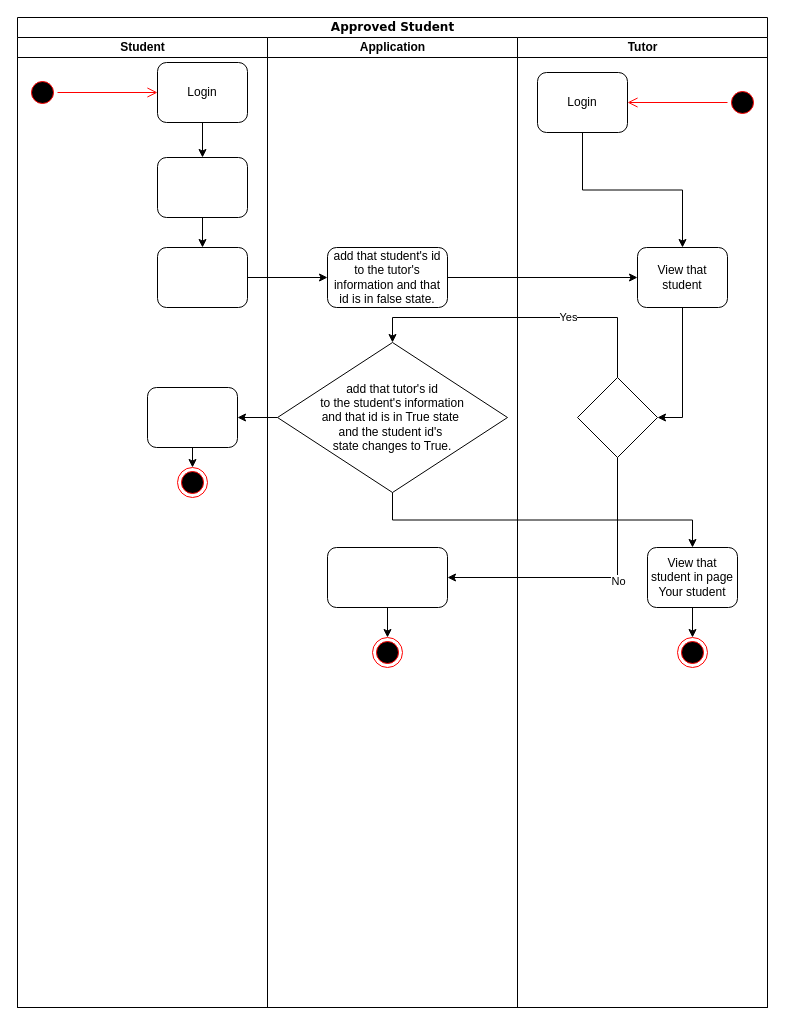
Image size: 785x1025. Some labels were removed from this diagram. Here are the shapes that lost their labels. From the top down, the centre of each, then its label:
the point at 202,187: View list Tutor
the point at 202,277: Click button choose this tutor
the point at 192,417: View that tutor in page Your tutor
the point at 617,417: Approve ?
the point at 387,577: remove id that student
